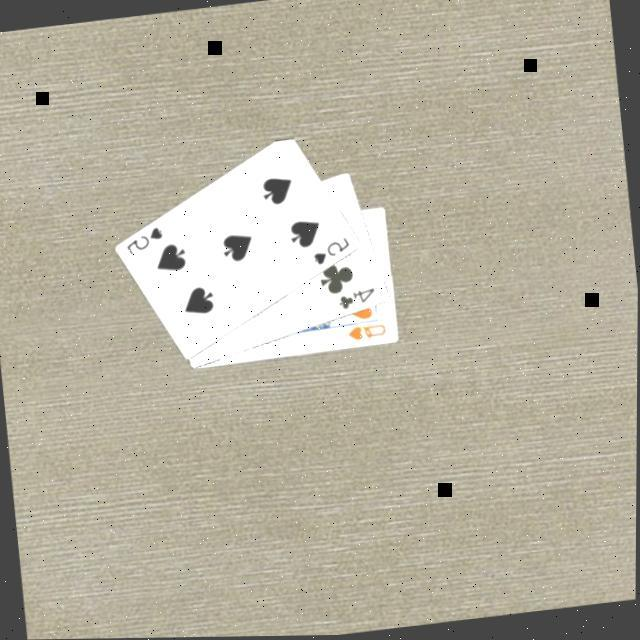4C: (337, 284, 381, 313)
5S: (309, 232, 356, 269), (123, 222, 170, 257)
QH: (346, 319, 392, 344)
